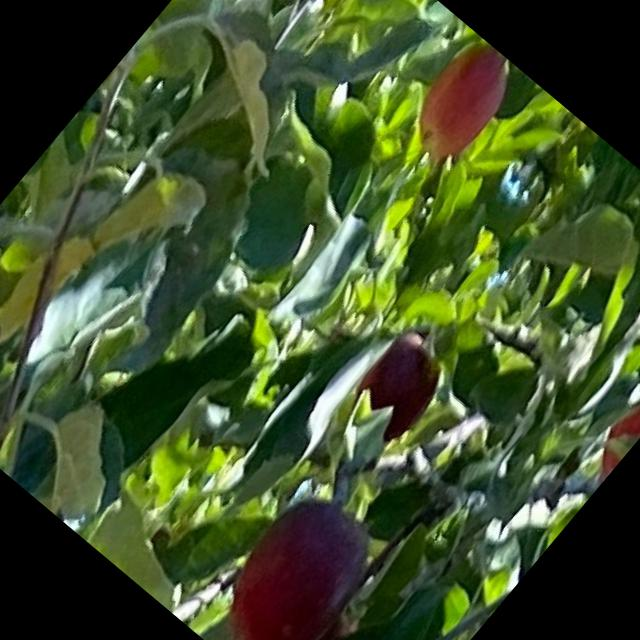Apples: (199, 479, 392, 639), (396, 32, 526, 168), (339, 323, 459, 447), (577, 360, 639, 483), (616, 190, 639, 288)
